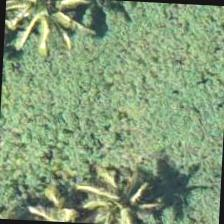Kelapa_Sawit: (79, 162, 174, 223), (3, 0, 92, 54)
